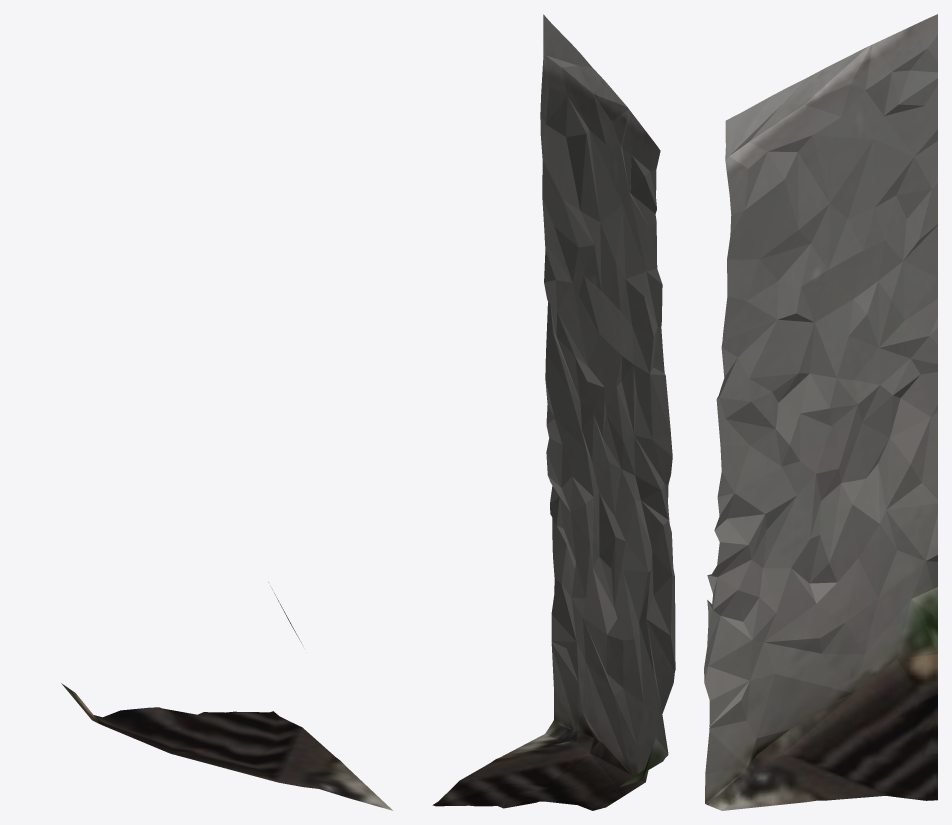
3 renders of one model, left to right at view 1: azimuth 30°, elevation 25°; view 2: azimuth 150°, elevation 25°; view 3: azimuth 270°, elevation 25°, orthographic. The views are drawn at different scales.
Bounding box in the file's own units: 0.3919 × 1.11 × 0.3411.
Materials: 1 (1 with a texture image).
